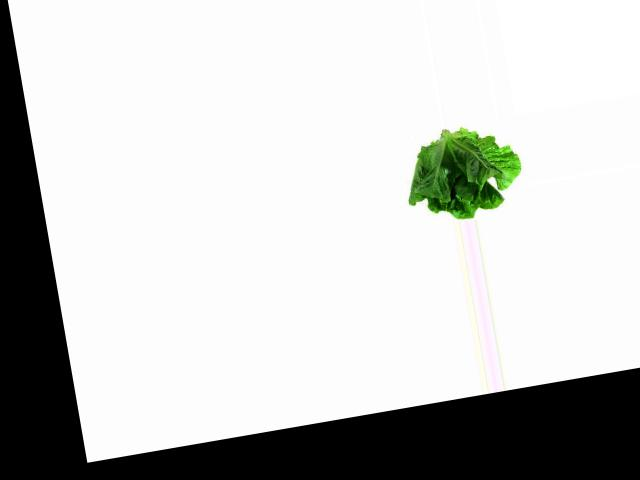lettuce: (396, 122, 527, 227)
